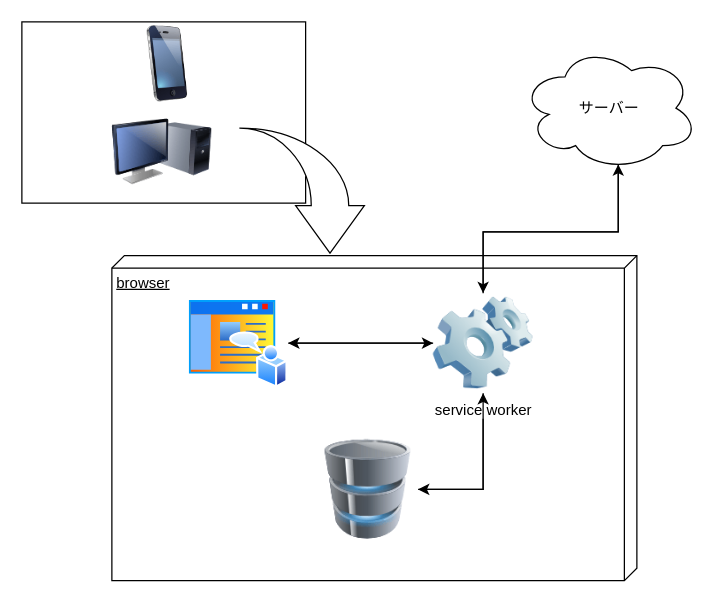
Some shapes in this 720 by 603 pixel diagram are drawn without their labels. Each missing label, with the centre of its shape:
"cache strage" goes at (368,489).
"page" goes at (237,342).
